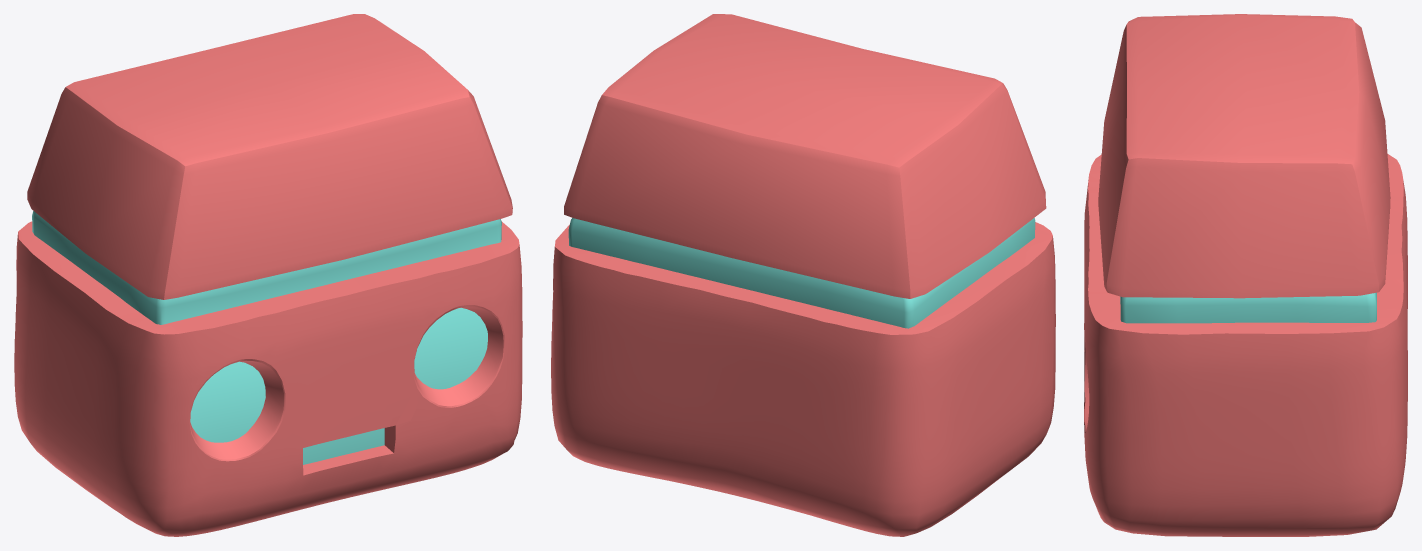
File: head.fbx
3 views of the same model, side by side, from view 1: azimuth 30°, elevation 25°; view 2: azimuth 150°, elevation 25°; view 3: azimuth 270°, elevation 25° (orthographic).
Visible parts, largest first — view 1: head; view 2: head; view 3: head.
Part boxes in pixels (<box>): head: <box>14,14,522,536</box>; head: <box>551,14,1055,536</box>; head: <box>1084,14,1407,536</box>.
Size of the model in its own units: 0.6608 by 0.6033 by 0.4684.
